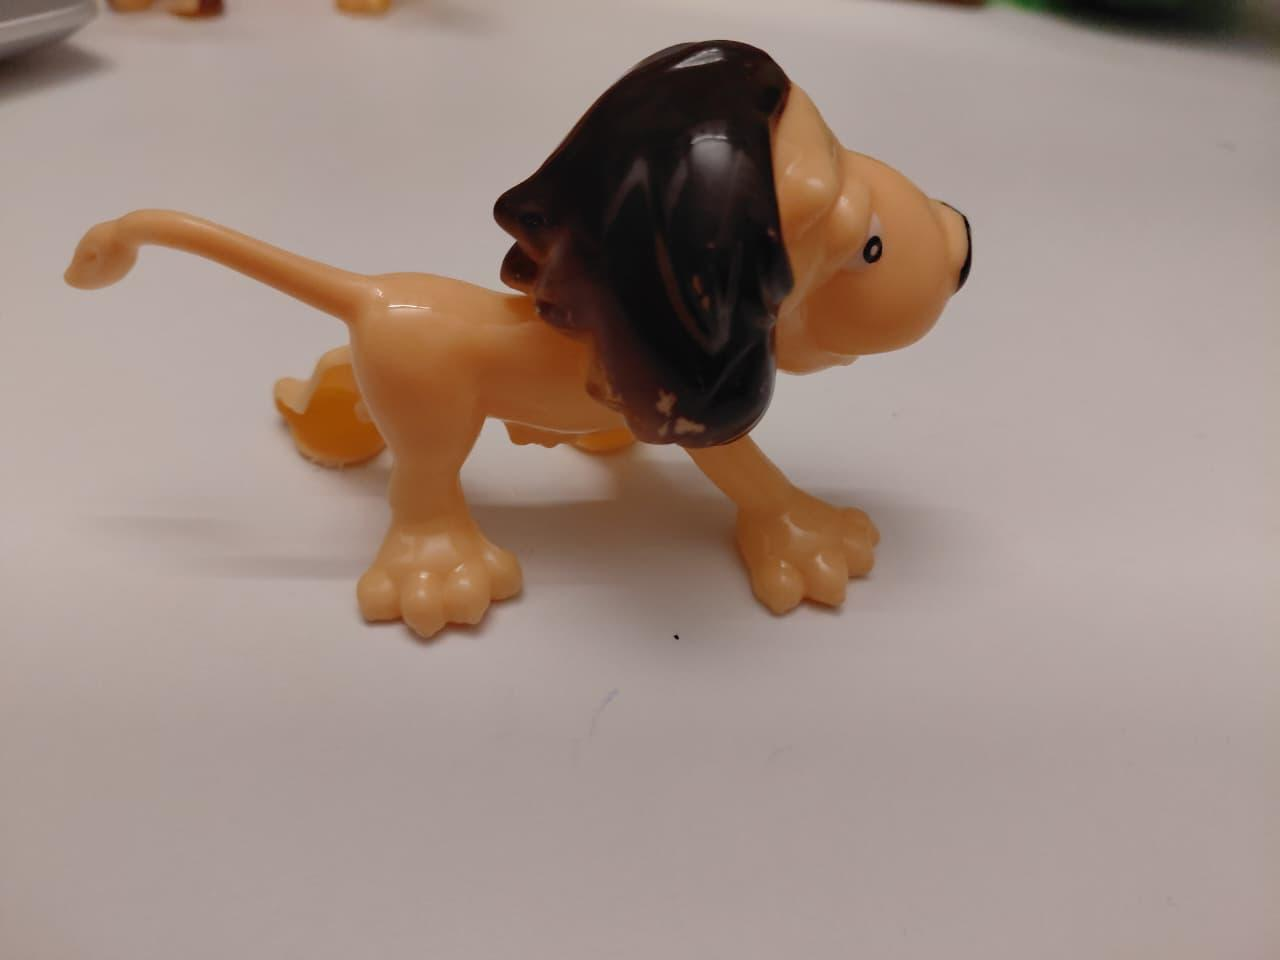lion: (32, 30, 997, 678)
